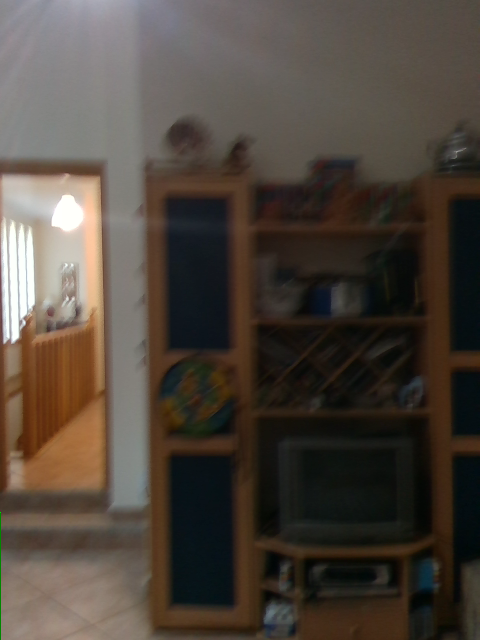open: (1, 160, 113, 507)
